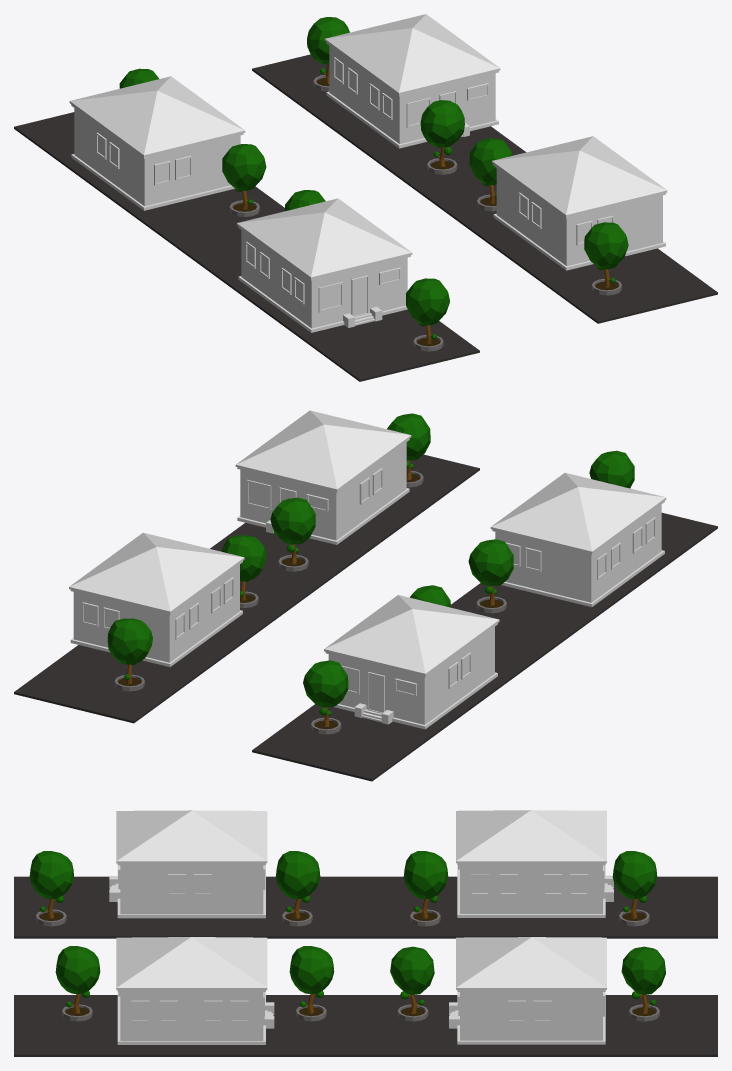
File: taemplate_b_004.fbx
3 views of the same model, one above another, from view 1: azimuth 30°, elevation 25°; view 2: azimuth 150°, elevation 25°; view 3: azimuth 270°, elevation 25° (orthographic).
Parts seen in each view (by area): view 1: roadside.008, roadside.007, one-story house. 017, one-story house.018, one-story house.016, one-story house. 014, tree.031, tree.026, tree.028, tree.030, tree.029, tree.032; view 2: roadside.008, roadside.007, one-story house.018, one-story house. 017, one-story house. 014, one-story house.016, tree.027, tree.029, tree.025, tree.032, tree.031, tree.030 (+1 smaller); view 3: roadside.008, roadside.007, one-story house. 017, one-story house. 014, one-story house.016, one-story house.018, tree.026, tree.030, tree.025, tree.029, tree.027, tree.028 (+2 smaller).
Part boxes in pixels (left/top/right/bottom): roadside.008: left=252, top=54, right=717, bottom=323; roadside.007: left=14, top=112, right=479, bottom=381; one-story house. 017: left=236, top=198, right=412, bottom=332; one-story house.018: left=69, top=76, right=245, bottom=210; one-story house.016: left=324, top=14, right=500, bottom=148; one-story house. 014: left=492, top=136, right=667, bottom=270; tree.031: left=420, top=100, right=464, bottom=174; tree.026: left=222, top=144, right=266, bottom=216; tree.028: left=406, top=278, right=449, bottom=351; tree.030: left=584, top=222, right=628, bottom=295; tree.029: left=469, top=138, right=512, bottom=211; tree.032: left=307, top=17, right=349, bottom=91; roadside.008: left=14, top=454, right=479, bottom=723; roadside.007: left=252, top=512, right=717, bottom=781; one-story house.018: left=324, top=595, right=499, bottom=729; one-story house. 017: left=490, top=472, right=666, bottom=607; one-story house. 014: left=235, top=410, right=411, bottom=544; one-story house.016: left=69, top=532, right=244, bottom=666; tree.027: left=303, top=660, right=348, bottom=734; tree.029: left=270, top=497, right=315, bottom=571; tree.025: left=468, top=539, right=513, bottom=613; tree.032: left=107, top=618, right=152, bottom=691; tree.031: left=221, top=535, right=266, bottom=608; tree.030: left=387, top=413, right=430, bottom=487; roadside.008: left=14, top=995, right=717, bottom=1056; roadside.007: left=14, top=876, right=717, bottom=938; one-story house. 017: left=109, top=810, right=267, bottom=918; one-story house. 014: left=116, top=937, right=274, bottom=1044; one-story house.016: left=449, top=937, right=606, bottom=1044; one-story house.018: left=456, top=810, right=613, bottom=917; tree.026: left=403, top=851, right=448, bottom=926; tree.030: left=55, top=946, right=100, bottom=1021; tree.025: left=275, top=851, right=320, bottom=926; tree.029: left=289, top=946, right=334, bottom=1021; tree.027: left=612, top=851, right=657, bottom=926; tree.028: left=29, top=851, right=73, bottom=926.
Size of the model in its own units: 891 by 220 by 1489.
